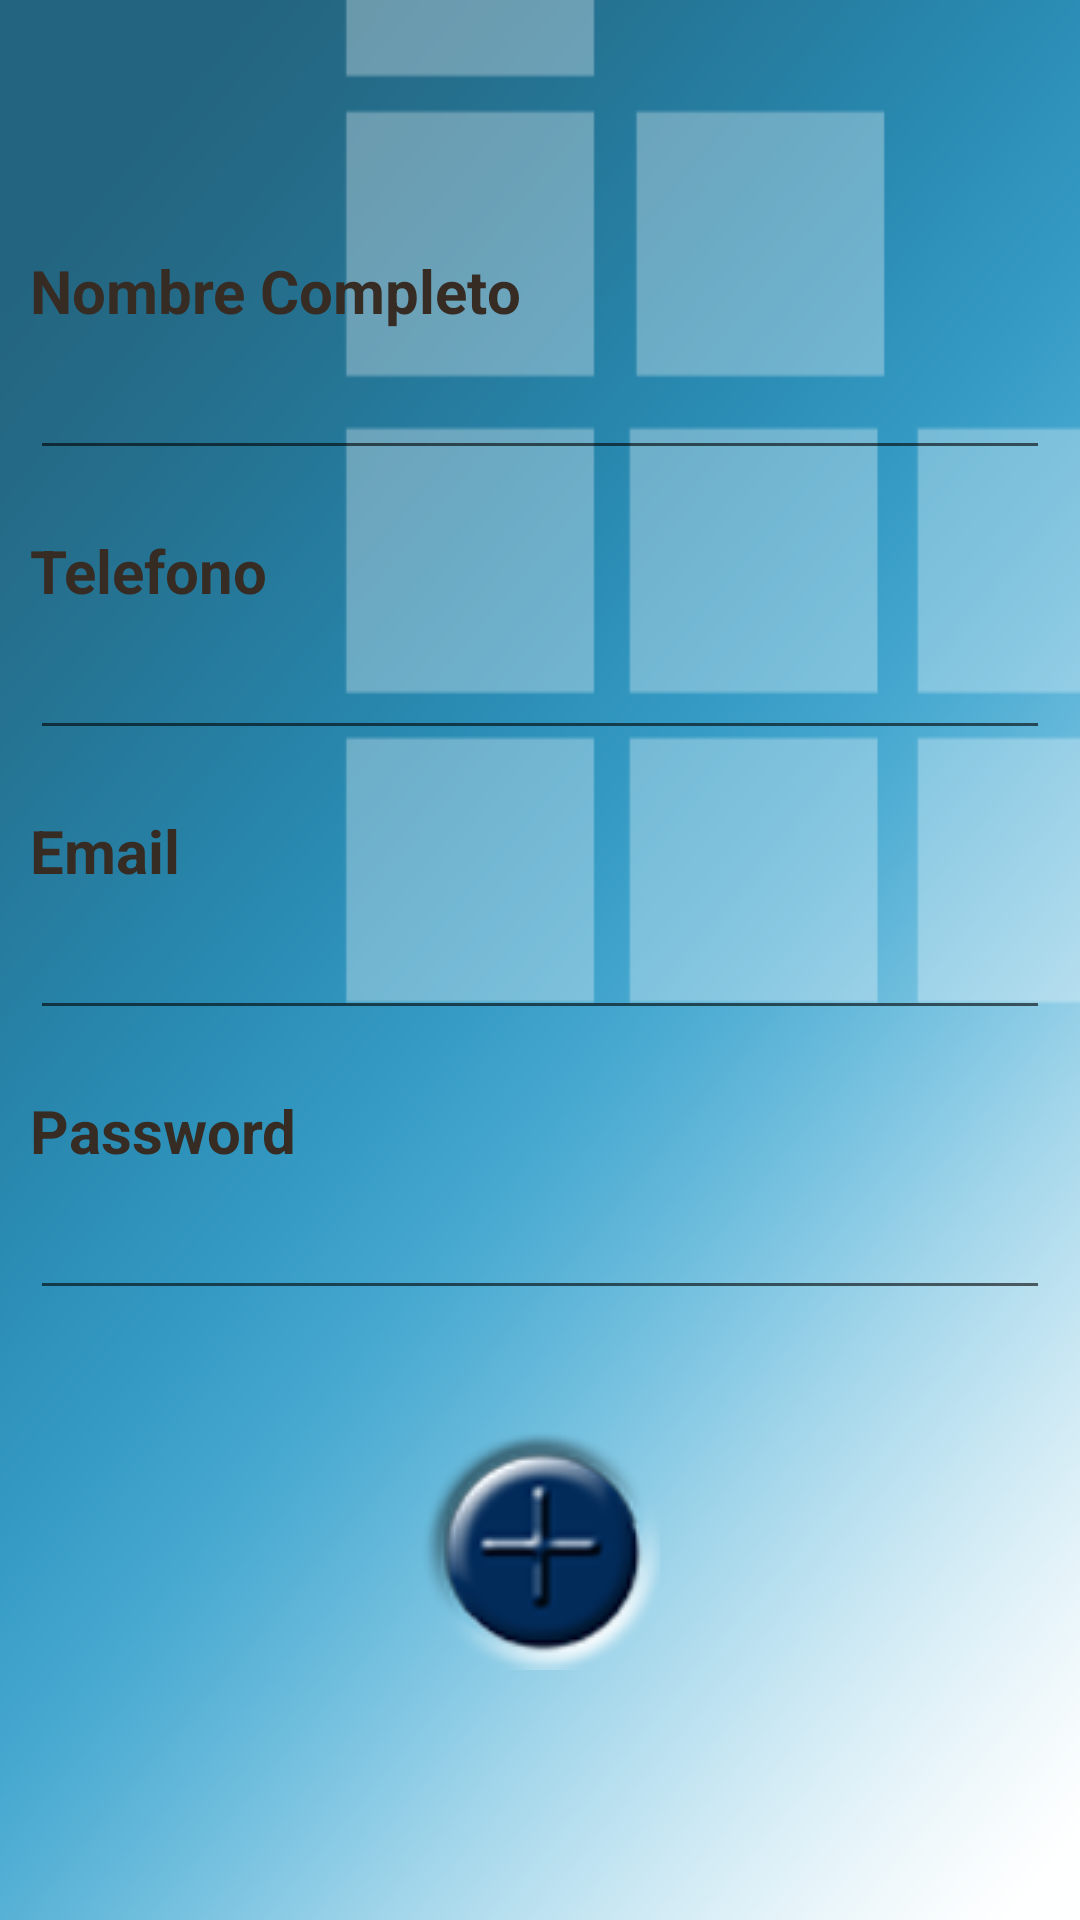

Screen size 1080 × 1920. Icon name, then its center in pixels as [x,y]:
botonregistrar: [540,1550]
